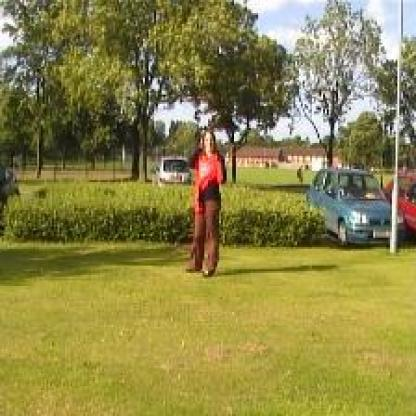other: (188, 144, 224, 208)
